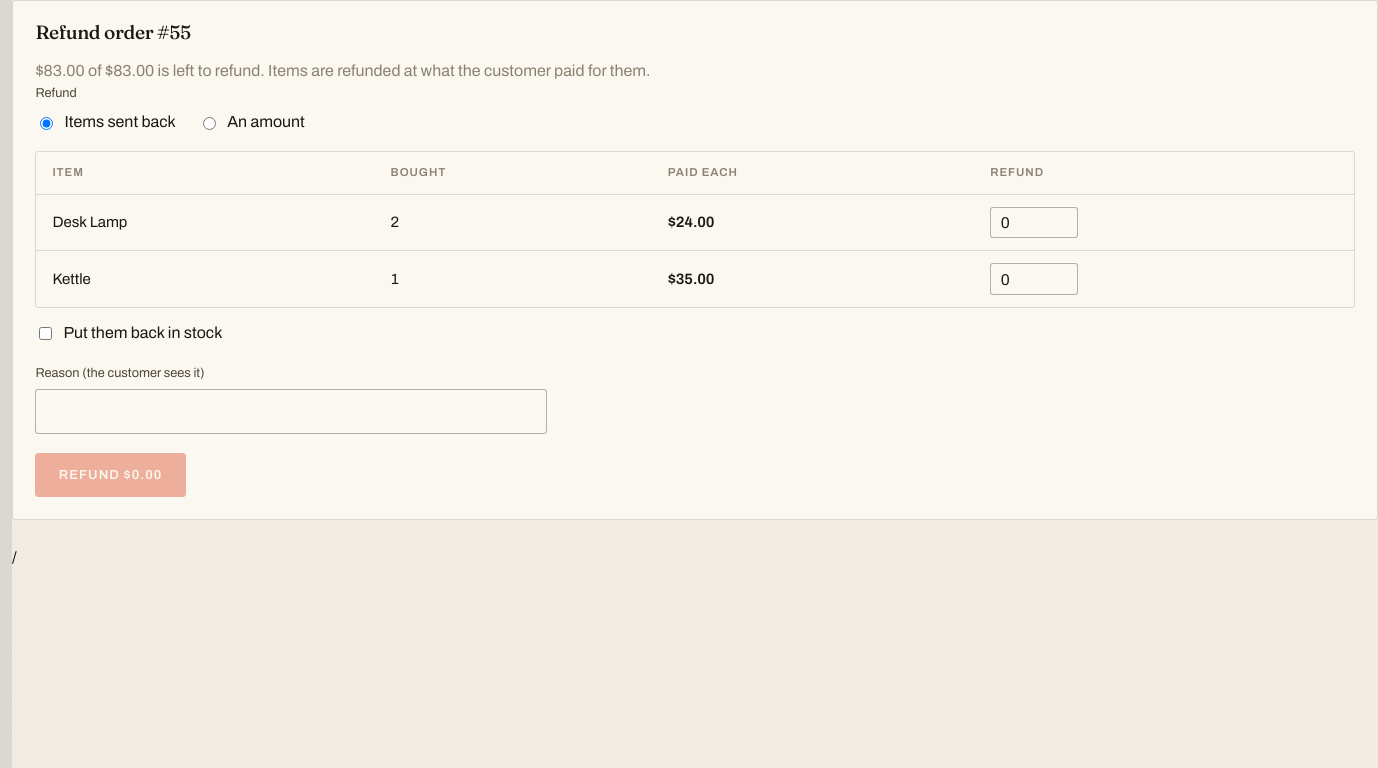
Test: RefundForm › refunds items sent back at what was paid for them, and can put them back in stock
This screenshot has width=1378, height=768.
Expected: the text "$83.00 of $83.00 is left to refund" is shown, top-left (35, 62), bottom-right (650, 79)
Step 1. Replace the text in the number field named "How many Desk Lamp to refund" with "1" → x=1034, y=222, box top-left (990, 207), bottom-right (1078, 238)
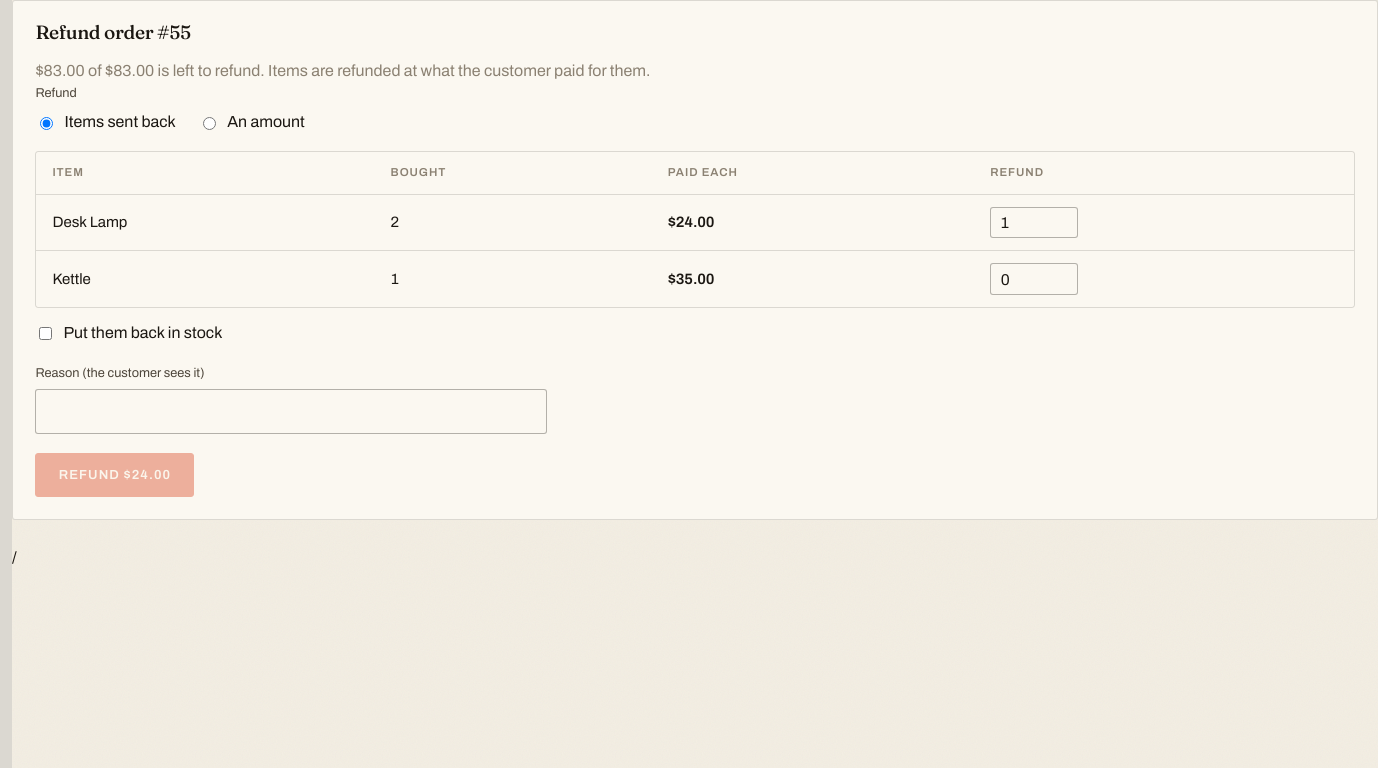
Step 2. Click the checkbox labelled "Put them back in stock" → x=46, y=333, box top-left (39, 327), bottom-right (52, 340)
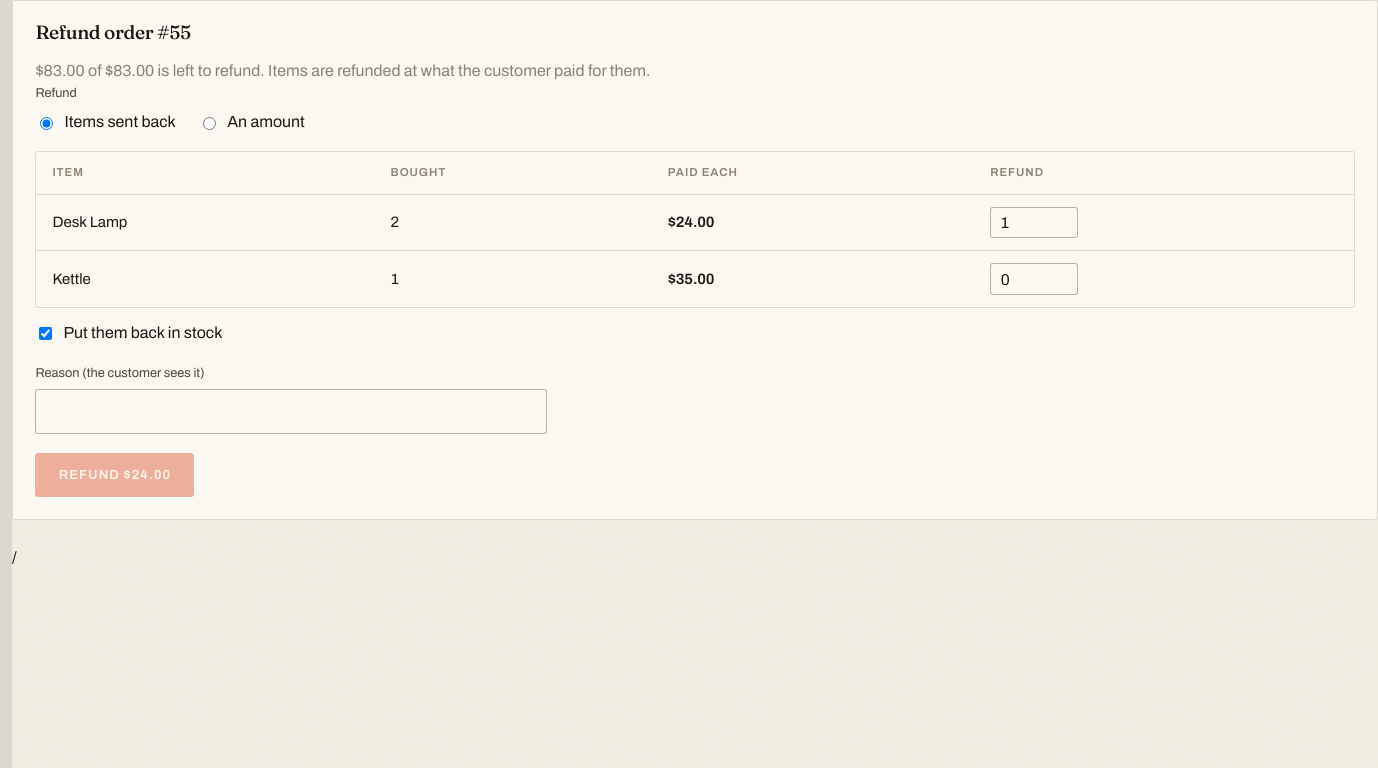
Step 3. Type "Returned: wrong colour" into the field labelled "Reason (the customer sees it)" → x=291, y=411, box top-left (35, 389), bottom-right (547, 434)
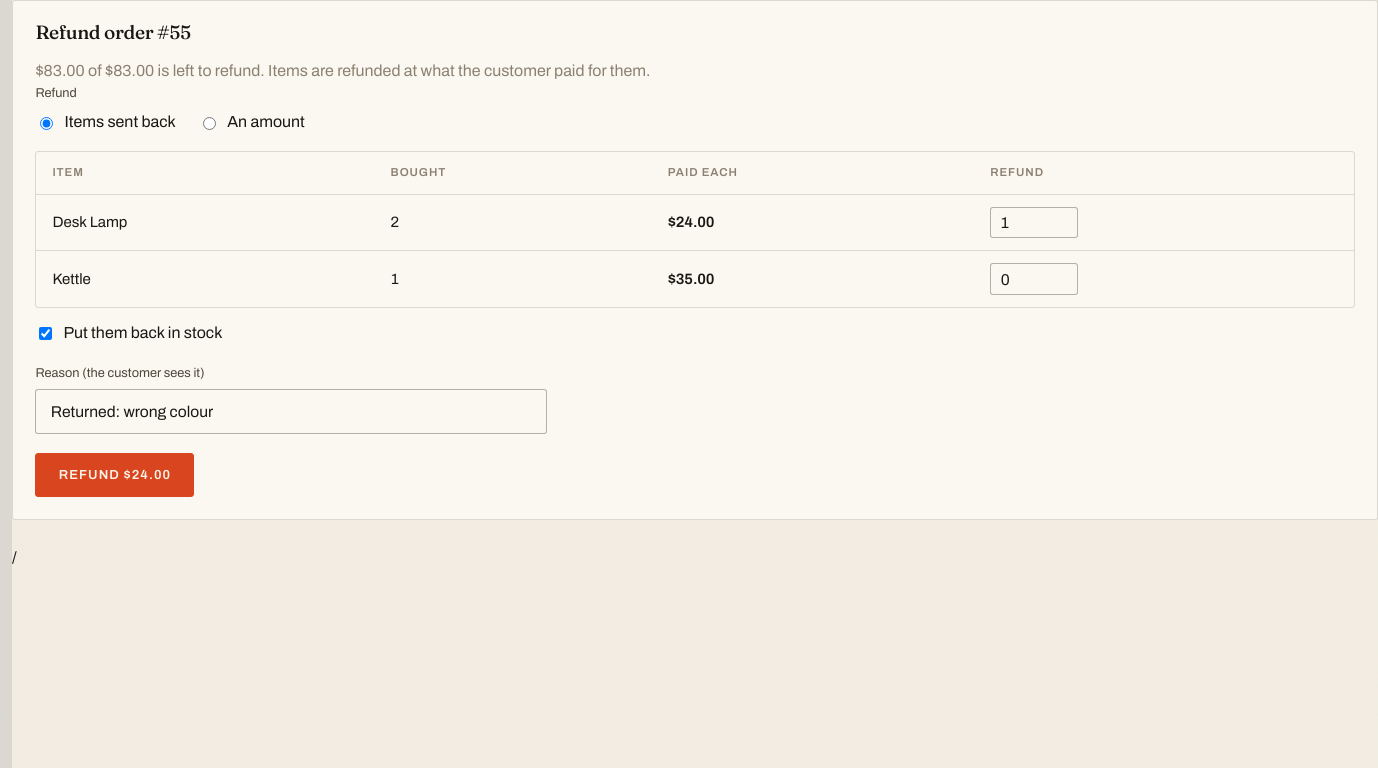
Step 4. Click the button "Refund $24.00" → x=115, y=475, box top-left (35, 453), bottom-right (194, 497)
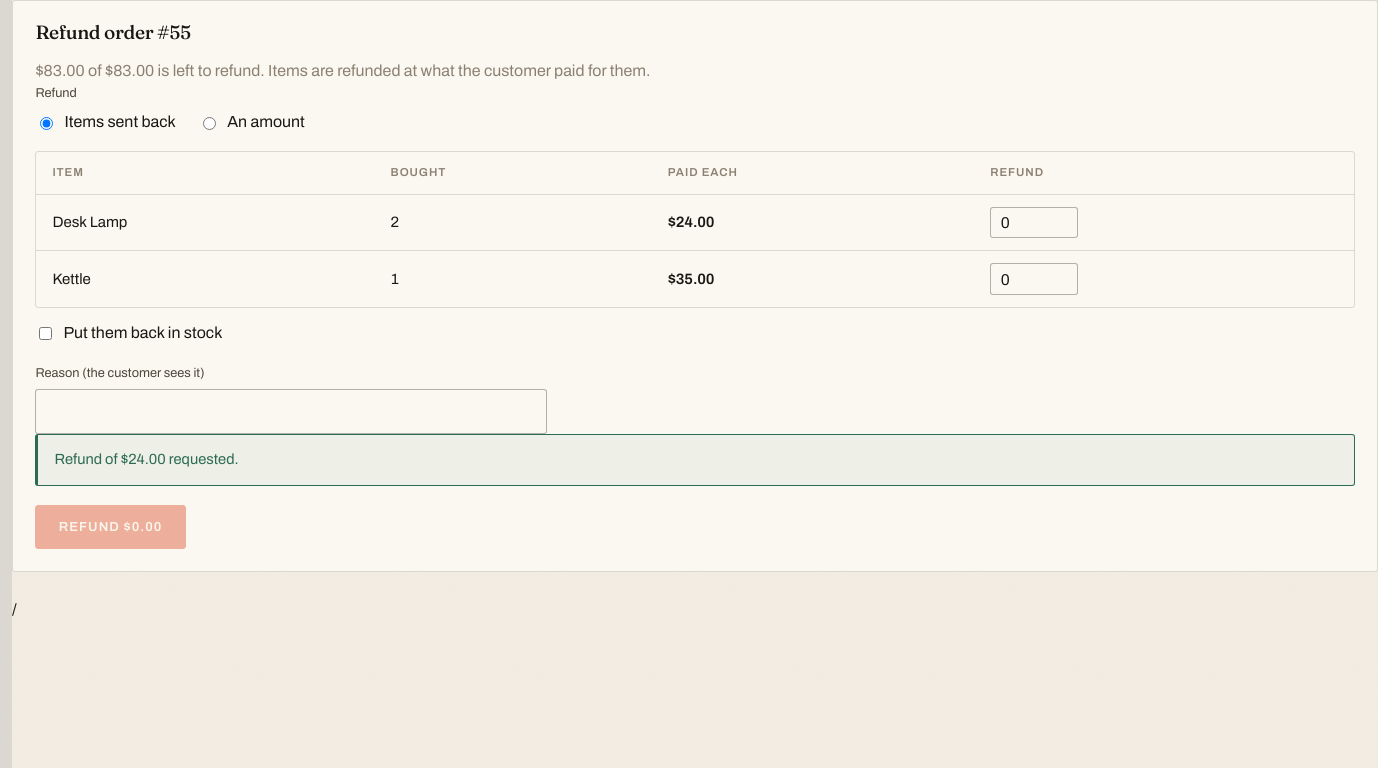
Now the message reads "Refund of $24.00 requested.", box top-left (54, 451), bottom-right (239, 467)
